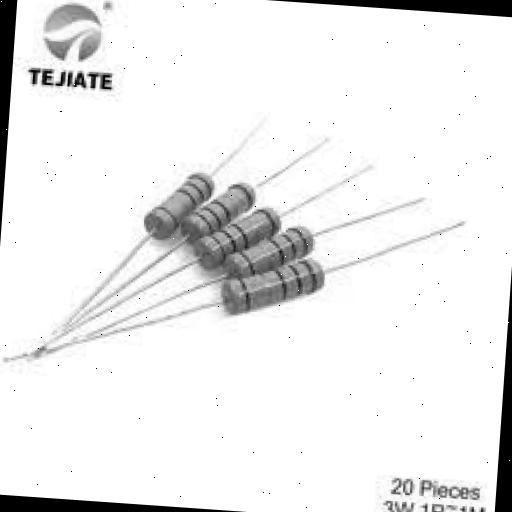RESISTOR: (184, 250, 376, 372), (178, 176, 294, 285), (220, 210, 349, 303), (110, 163, 214, 273), (156, 160, 266, 261)
